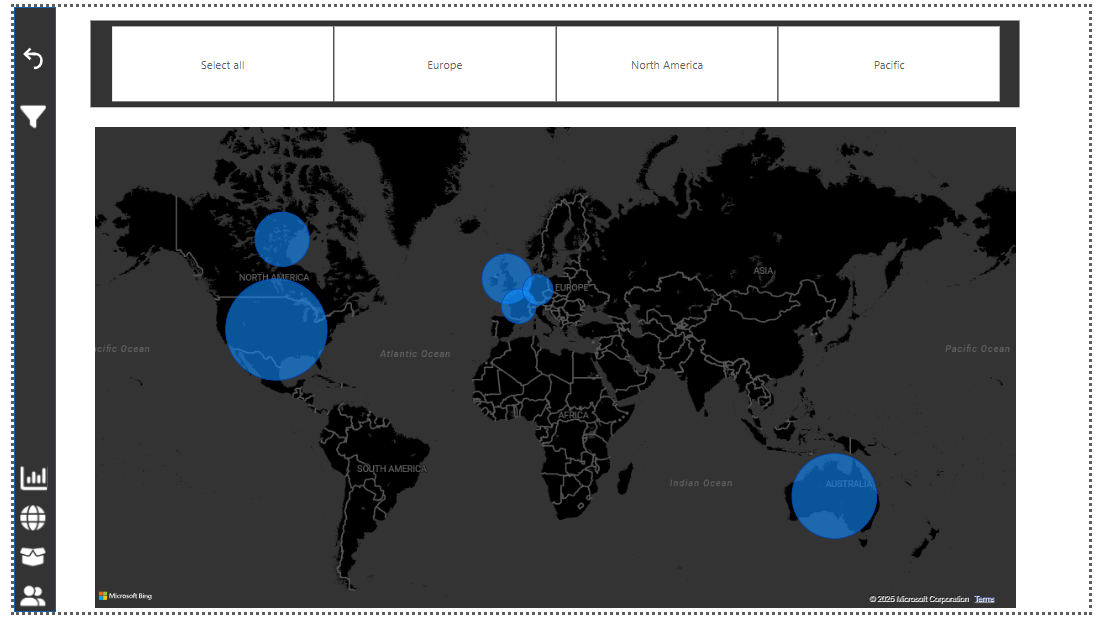

The page's visual inventory and layout, read from the dashboard file:
{"tool":"powerbi","page":{"name":"Maps","canvas":[1280,720],"ordinal":1},"visuals":[{"type":"slicer","fields":{"Values":["Territory Lookup.Continent"]},"box":[90.8,15.4,1106.2,103.1],"z":0},{"type":"actionButton","box":[3.3,541.7,48.3,40],"z":0,"group":"g1"},{"type":"map","fields":{"Category":["Territory Lookup.Country"],"Size":["Measure Table.Total Orders"]},"box":[90.8,136.9,1106.2,583.1],"z":1000},{"type":"actionButton","box":[4.1,589.1,45.6,37.8],"z":1000,"group":"g1"},{"type":"shape","box":[0,0,50,720],"z":1001},{"type":"group","id":"g1","title":"Navigation Buttons","box":[3.3,541.7,48.3,178.3],"z":1002},{"type":"actionButton","box":[5,43.3,35,36.7],"z":1003},{"type":"actionButton","box":[3.3,110,38.3,40],"z":1004},{"type":"actionButton","box":[4.1,636.9,45.6,37.8],"z":2000,"group":"g1"},{"type":"actionButton","box":[4.1,683.6,45.6,37.8],"z":3000,"group":"g1"}]}

Visuals, with their boxes in screenshot pixels (x1, y1, x2, y2):
slicer - Territory Lookup.Continent: select_region(86, 16, 1027, 104)
actionButton: select_region(11, 464, 53, 498)
map - Territory Lookup.Country x Measure Table.Total Orders: select_region(86, 119, 1027, 615)
actionButton: select_region(12, 504, 51, 536)
shape: select_region(9, 3, 51, 615)
"Navigation Buttons" group: select_region(11, 464, 53, 615)
actionButton: select_region(13, 40, 43, 71)
actionButton: select_region(11, 96, 44, 130)
actionButton: select_region(12, 545, 51, 577)
actionButton: select_region(12, 584, 51, 616)
